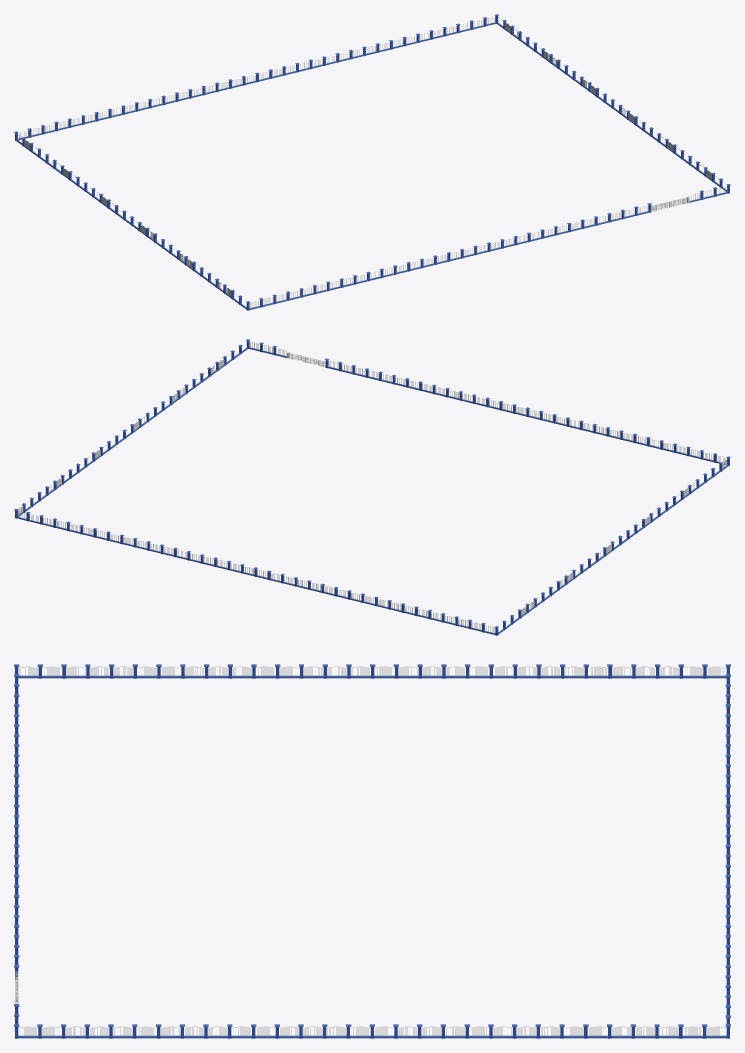
The model's file is gc_fence.glb.
The picture shows the model from 3 angles, top to bottom: view 1: azimuth 30°, elevation 25°; view 2: azimuth 150°, elevation 25°; view 3: azimuth 270°, elevation 25°; orthographic projection. The views are drawn at different scales.
Parts seen in each view (by area): view 1: 围栏.003, 围栏.001, 围栏.004, 围栏.002; view 2: 围栏.003, 围栏.001, 围栏.004, 围栏.002; view 3: 围栏.004, 围栏.002, 围栏.003, 围栏.001.
Part boxes in pixels (box(x1,y1,x2,y2)): 围栏.003: box(14, 17, 496, 140); 围栏.001: box(249, 203, 651, 309); 围栏.004: box(495, 14, 726, 191); 围栏.002: box(16, 134, 250, 310); 围栏.003: box(17, 511, 498, 635); 围栏.001: box(325, 358, 725, 464); 围栏.004: box(14, 344, 247, 518); 围栏.002: box(498, 456, 730, 634); 围栏.004: box(18, 1024, 730, 1038); 围栏.002: box(14, 664, 726, 678); 围栏.003: box(725, 664, 730, 1024); 围栏.001: box(14, 674, 19, 979).
Bounding box in the file's own units: 55.31 × 0.9048 × 46.26.
